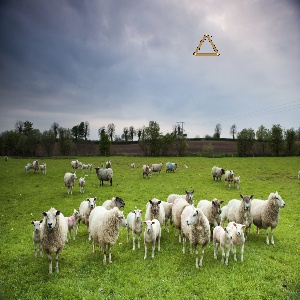triangle: (192, 32, 221, 57)
